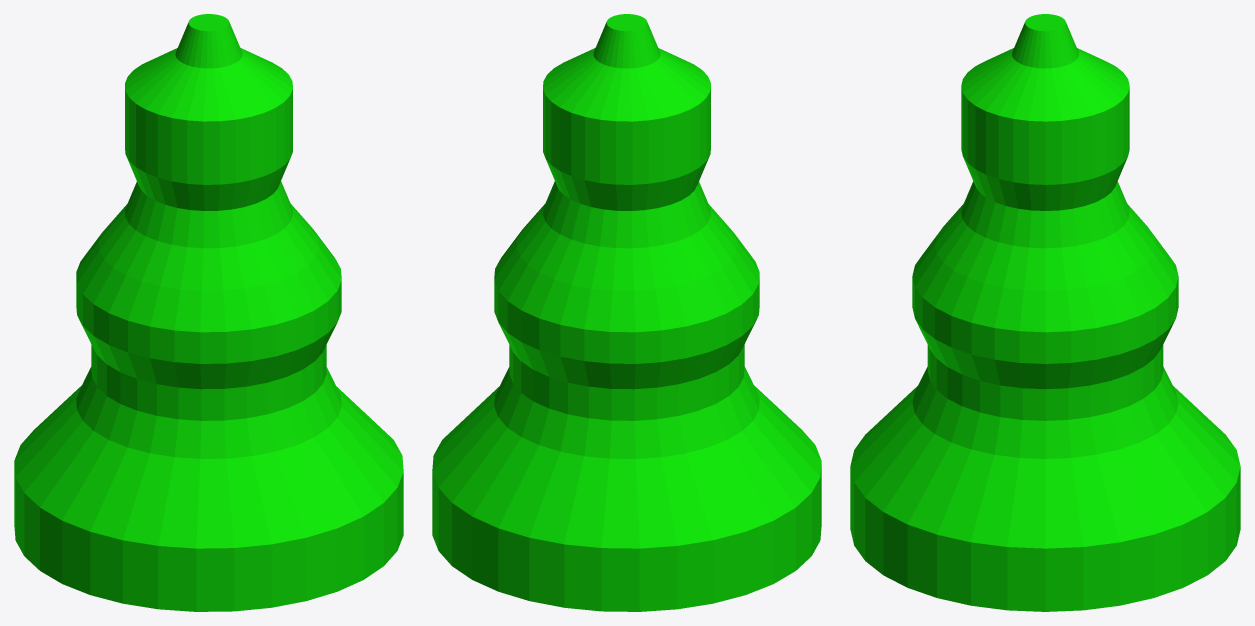
File: pawn.dae
3 views of the same model, side by side, from view 1: azimuth 30°, elevation 25°; view 2: azimuth 150°, elevation 25°; view 3: azimuth 270°, elevation 25° (orthographic).
Parts seen in each view (by area): view 1: Cylinder; view 2: Cylinder; view 3: Cylinder.
Boxes of the visible parts, x1=… form: Cylinder: x1=14, y1=14, x2=403, y2=611; Cylinder: x1=432, y1=14, x2=821, y2=611; Cylinder: x1=850, y1=14, x2=1240, y2=611.
Bounding box in the file's own units: 1.4 × 1.4 × 2.
